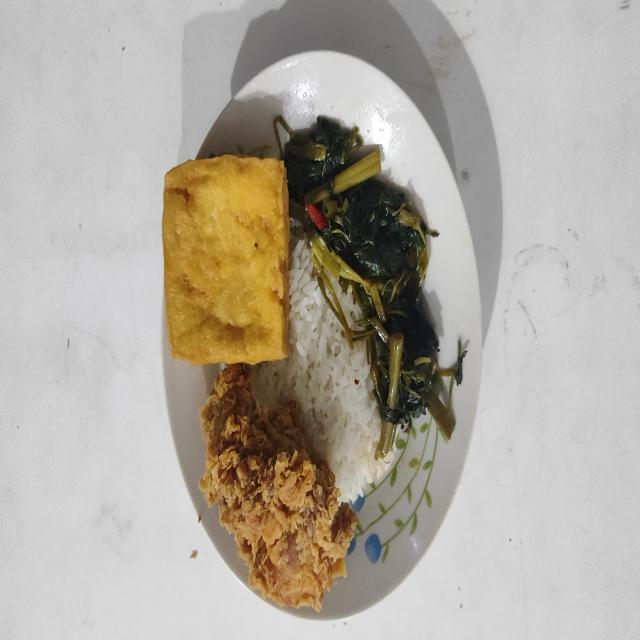nasi_putih: (252, 234, 398, 506)
tahu_goreng: (162, 154, 290, 364)
tumis_kangkung: (274, 116, 466, 460)
